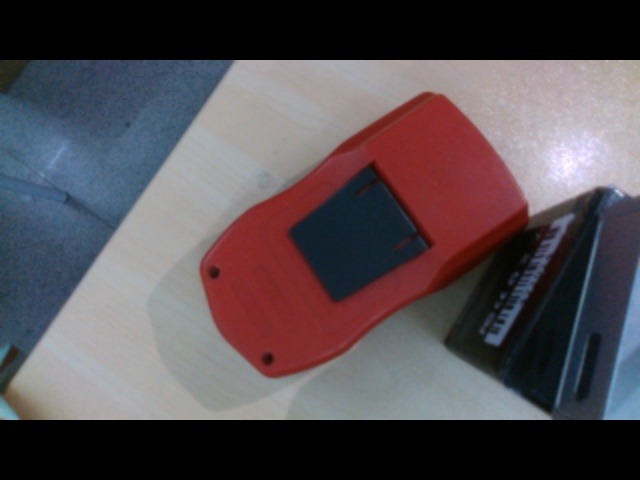Multimeter: (199, 95, 530, 380)
Screw holes: (206, 265, 222, 281), (260, 351, 275, 367)
